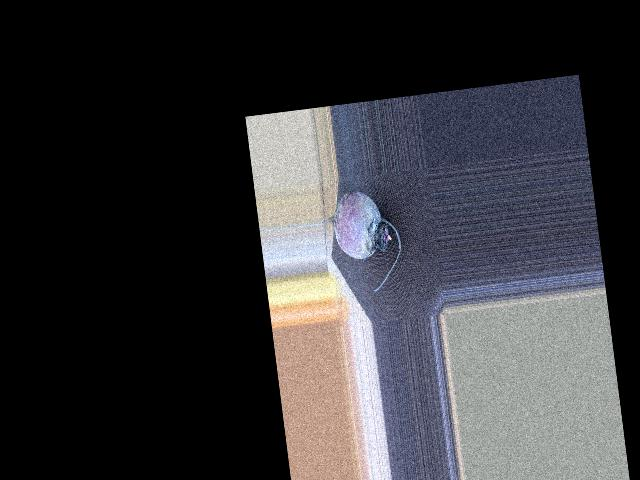beet: (318, 186, 406, 297)
